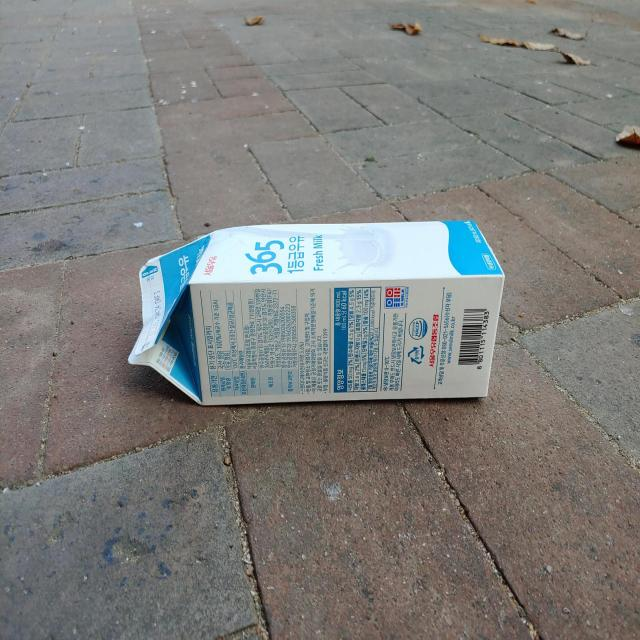paperpack: (129, 220, 505, 405)
